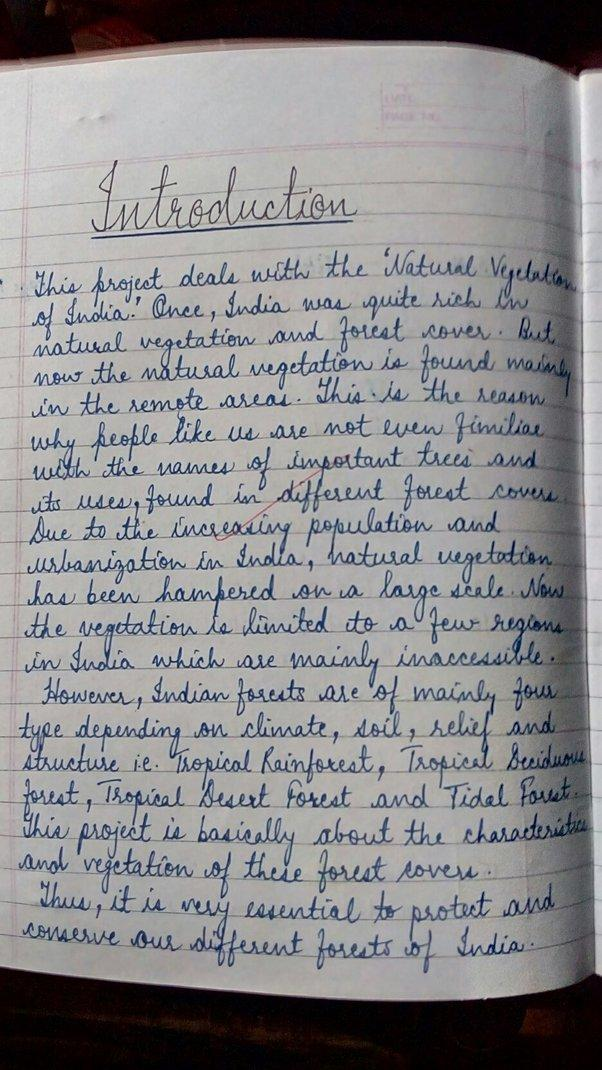text: (30, 240, 583, 312), (13, 807, 591, 866), (36, 878, 559, 942), (27, 406, 550, 467), (27, 311, 559, 370), (17, 704, 560, 760), (27, 342, 578, 397), (19, 772, 580, 826), (30, 283, 531, 342), (30, 438, 543, 495), (22, 604, 568, 655), (25, 535, 556, 587), (23, 569, 568, 619), (13, 738, 589, 785), (19, 639, 549, 690), (26, 374, 551, 425), (19, 922, 530, 973), (23, 503, 503, 557), (16, 848, 484, 902), (23, 472, 562, 517), (36, 675, 562, 719), (85, 156, 363, 237)
